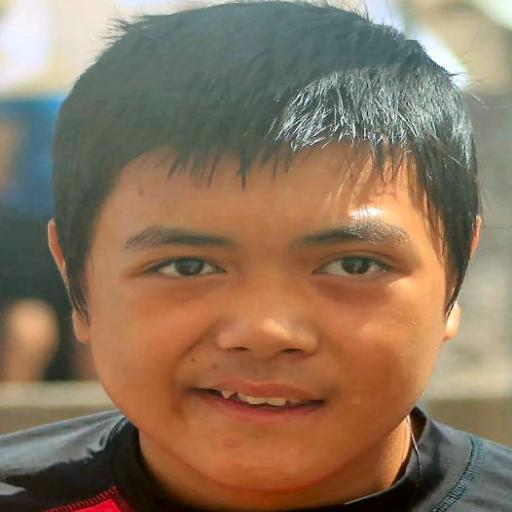Autism: (8, 9, 512, 501)
